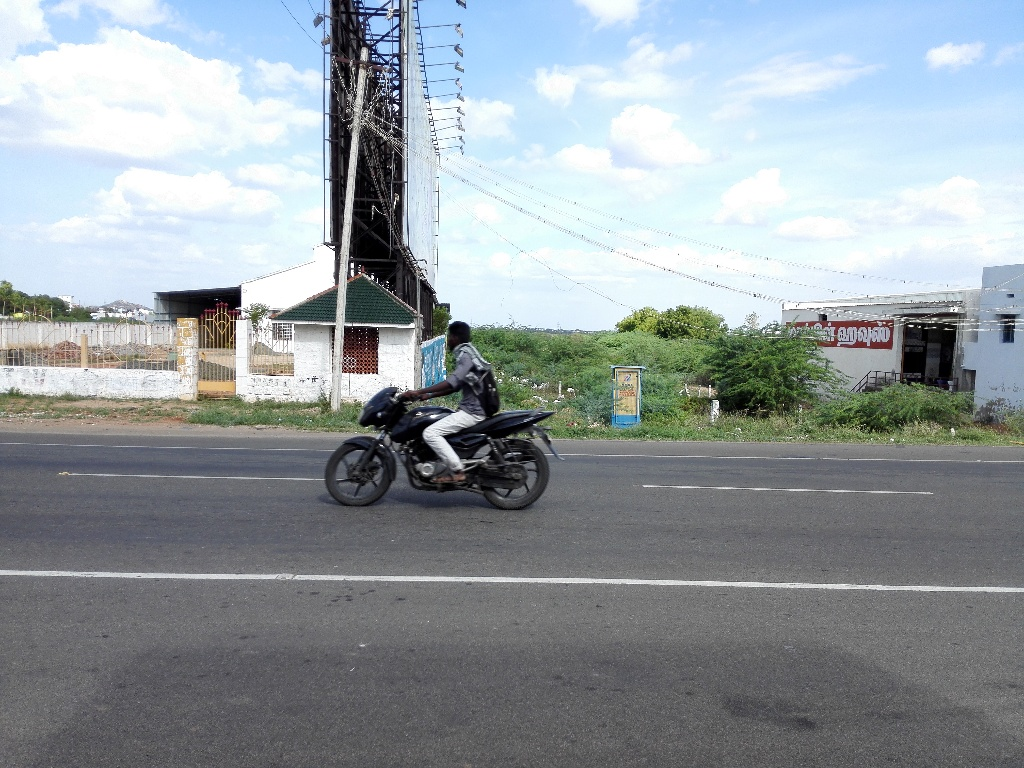biker: (314, 298, 576, 521)
nohelmet: (442, 311, 482, 362)
